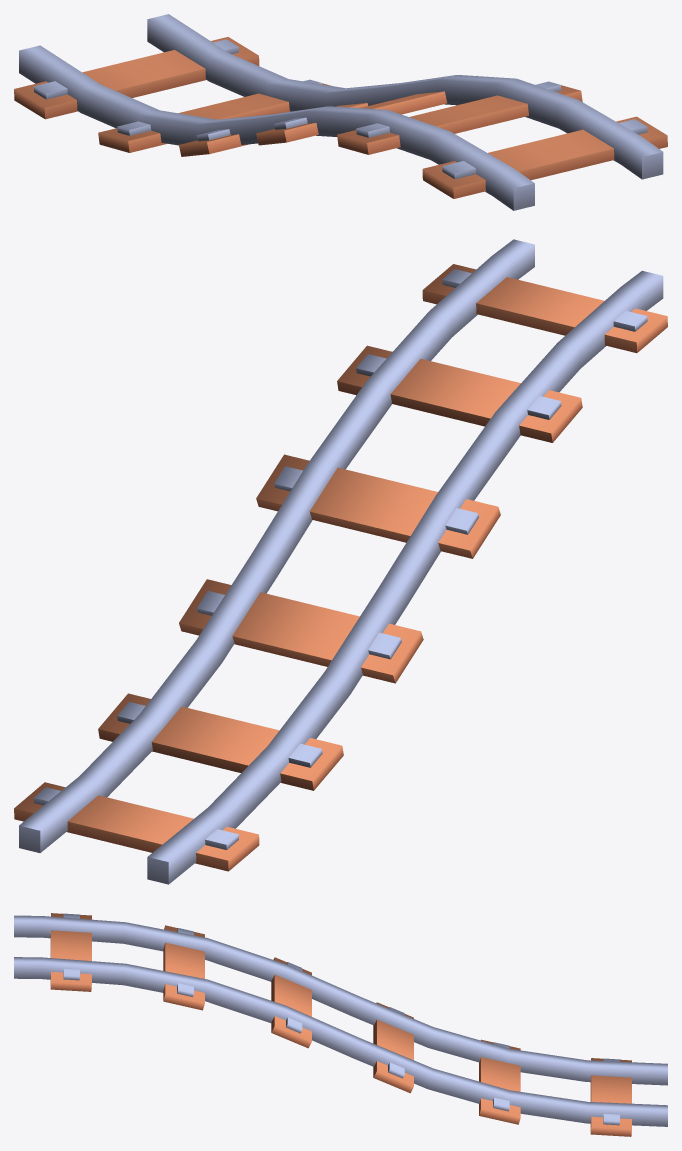
Rendered from kenney-train-railroad-straight-hill-complete.glb.
The picture shows the model from 3 angles, top to bottom: view 1: azimuth 30°, elevation 25°; view 2: azimuth 150°, elevation 25°; view 3: azimuth 270°, elevation 25°; orthographic projection. The views are drawn at different scales.
Visible parts, largest first — view 1: railroad-straight-hill-complete; view 2: railroad-straight-hill-complete; view 3: railroad-straight-hill-complete.
Boxes of the visible parts, left/top/right/bottom form: railroad-straight-hill-complete: left=14, top=14, right=667, bottom=210; railroad-straight-hill-complete: left=14, top=239, right=667, bottom=884; railroad-straight-hill-complete: left=14, top=913, right=667, bottom=1136.
Size of the model in its own units: 1 by 1.1 by 4.
Materials: 1 (1 with a texture image).
